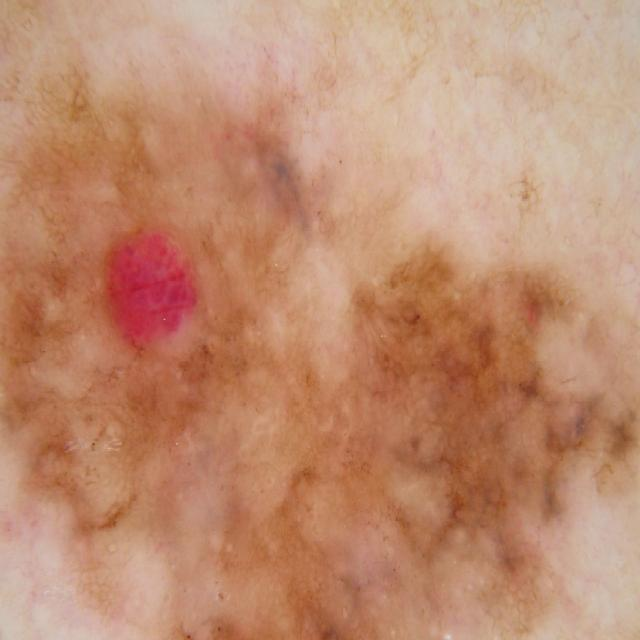Melanoma: (0, 128, 584, 640)
